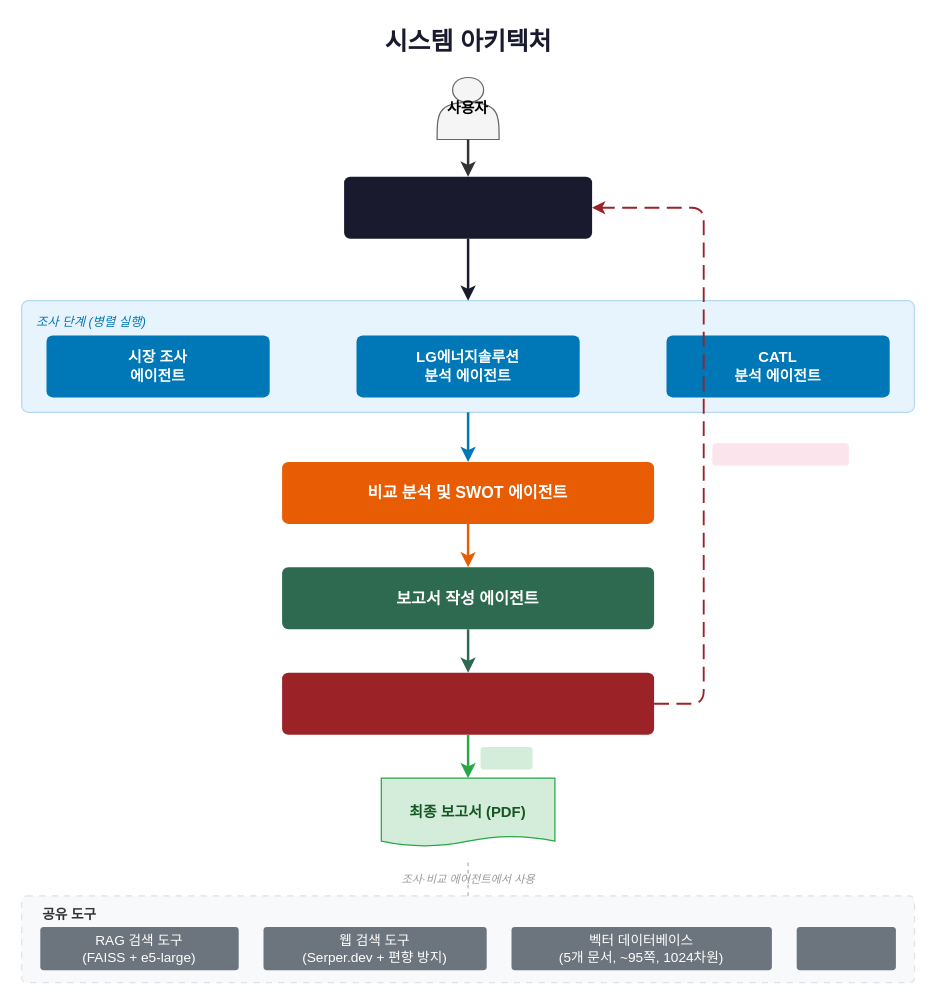
Image size: 936x1004. Some labels were removed from this diagram. The shapes that lost their labels are listed below. From the top down, each one's centre as x and y in pixels, then its label:
At point 467,207: "관리자 에이전트".
At point 780,454: "재작성 (최대 2회)".
At point 467,703: "품질 검증 에이전트".
At point 506,757: "통과".
At point 845,948: "대규모 언어 모델 (GPT-4o-mini)".
